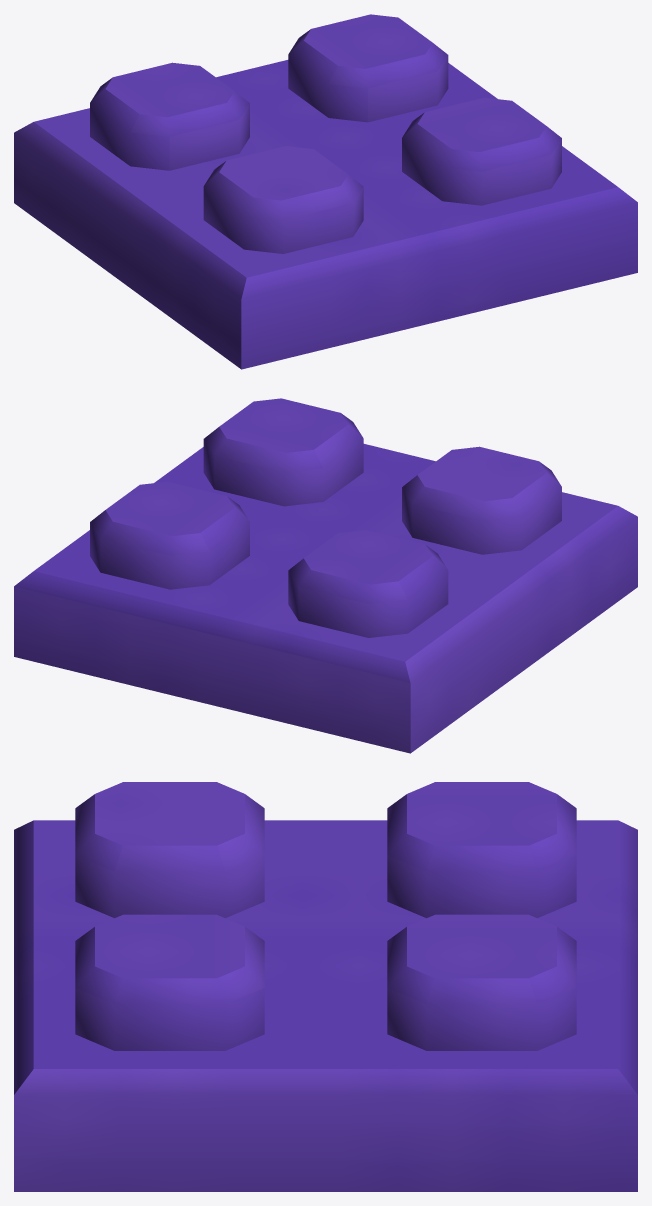
File: BrickV.fbx
3 renders of one model, top to bottom at view 1: azimuth 30°, elevation 25°; view 2: azimuth 150°, elevation 25°; view 3: azimuth 270°, elevation 25°, orthographic. The views are drawn at different scales.
Parts seen in each view (by area): view 1: bevel-hq-plate-2x2; view 2: bevel-hq-plate-2x2; view 3: bevel-hq-plate-2x2.
Boxes of the visible parts, <box> form: bevel-hq-plate-2x2: <box>14,14,637,369</box>; bevel-hq-plate-2x2: <box>14,398,637,753</box>; bevel-hq-plate-2x2: <box>14,782,637,1191</box>.
Size of the model in its own units: 1.99 by 0.625 by 1.97.
Materials: 1 (1 with a texture image).
